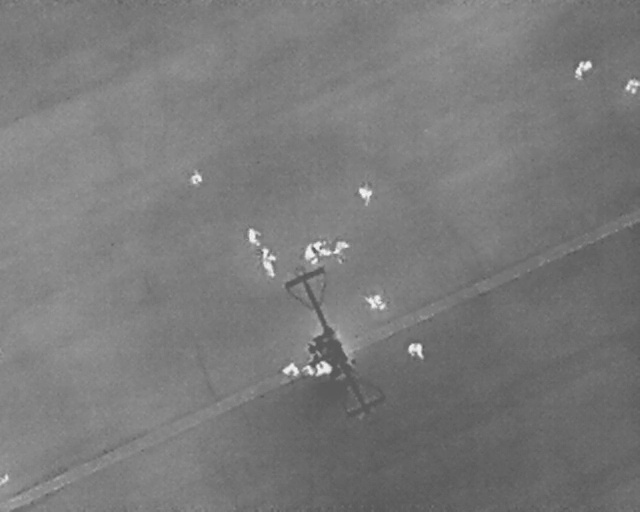Person: (300, 237, 333, 269), (260, 246, 279, 278), (571, 56, 593, 82), (332, 238, 351, 259), (365, 294, 386, 311), (357, 185, 373, 207), (407, 342, 424, 360), (315, 359, 332, 377), (282, 362, 300, 377), (626, 76, 639, 96), (247, 227, 260, 245), (190, 173, 203, 186)
